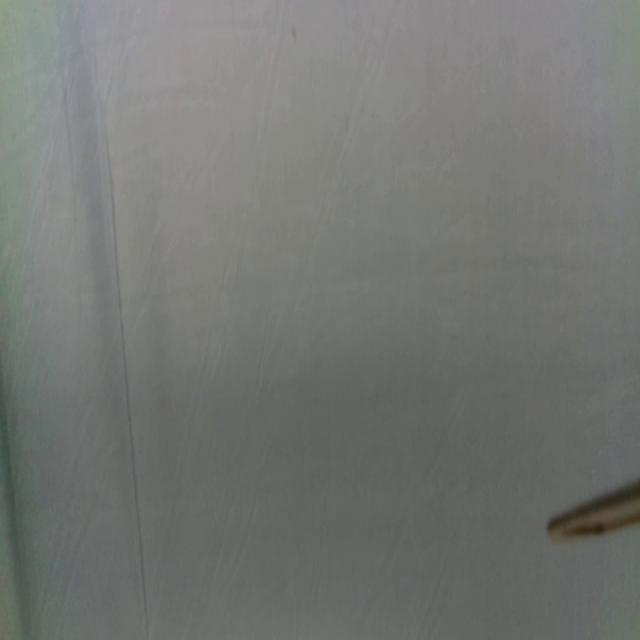crease: (104, 126, 150, 640)
